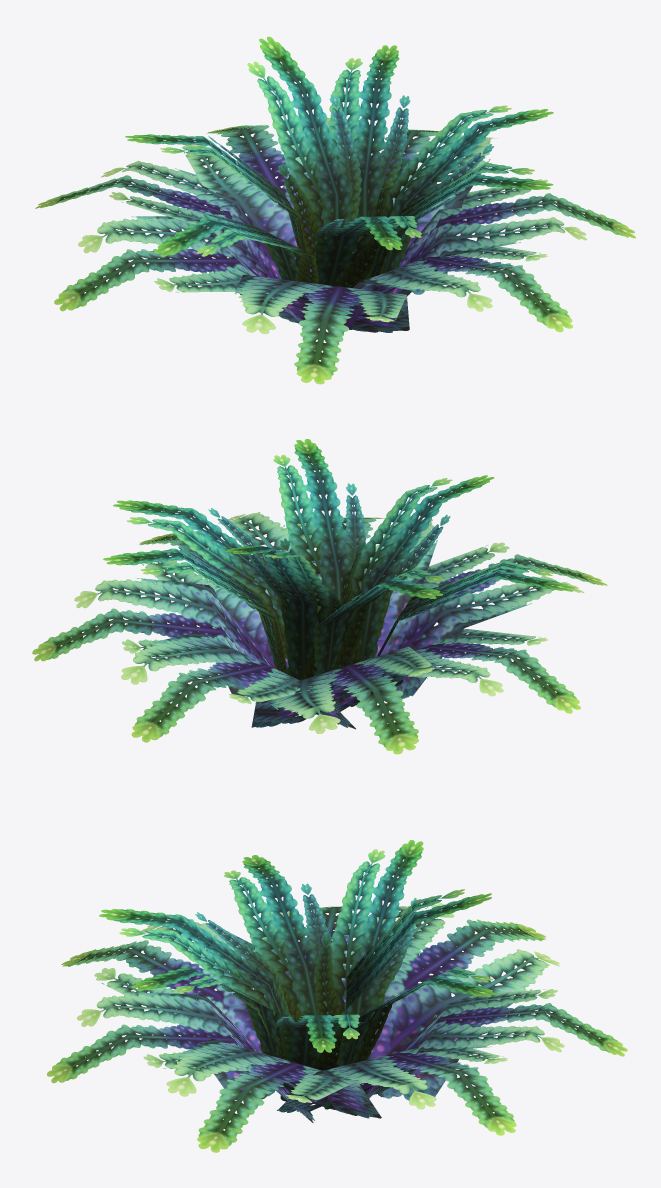
Rendered from SeaWeed_12.FBX.
3 renders of one model, top to bottom at view 1: azimuth 30°, elevation 25°; view 2: azimuth 150°, elevation 25°; view 3: azimuth 270°, elevation 25°, orthographic. The views are drawn at different scales.
Visible parts, largest first — view 1: SeaWeed_12; view 2: SeaWeed_12; view 3: SeaWeed_12.
Part boxes in pixels (x1,y1,x2,y2): SeaWeed_12: (35, 36, 635, 384); SeaWeed_12: (32, 439, 607, 754); SeaWeed_12: (47, 840, 627, 1152).
Size of the model in its own units: 49.34 by 19.14 by 49.56.
